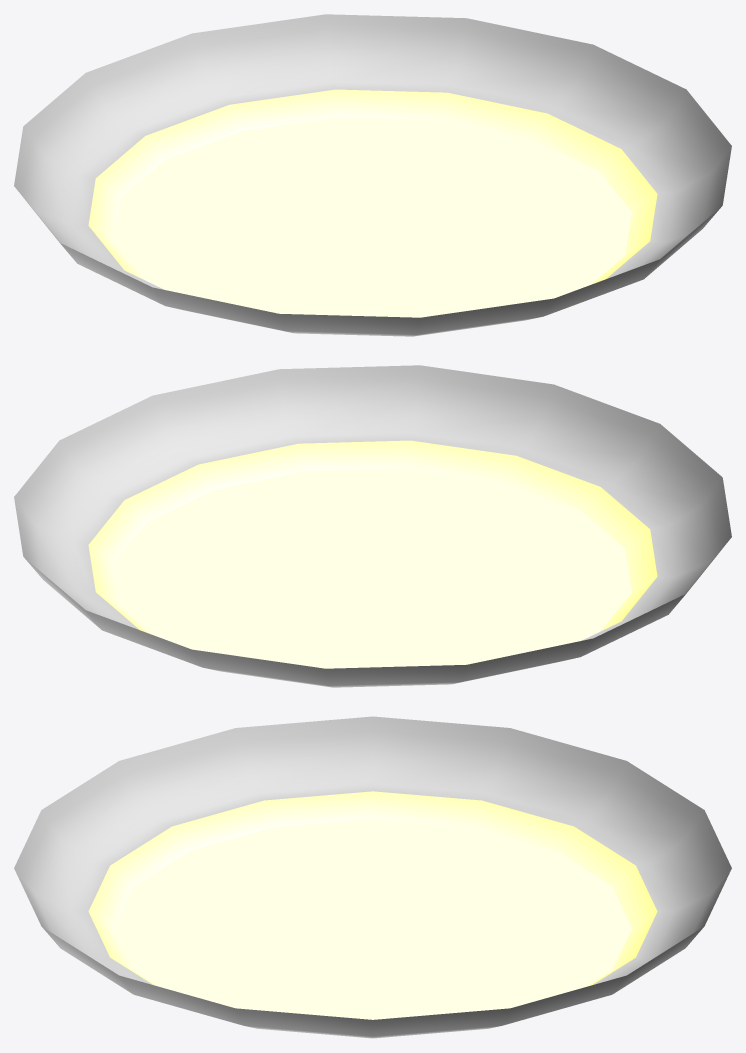
Rendered from Ceillinglamp.fbx.
3 views of the same model, one above another, from view 1: azimuth 30°, elevation 25°; view 2: azimuth 150°, elevation 25°; view 3: azimuth 270°, elevation 25° (orthographic).
Visible parts, largest first — view 1: Ceiling lamp; view 2: Ceiling lamp; view 3: Ceiling lamp.
Part boxes in pixels (x1,y1,x2,y2): Ceiling lamp: (14,14,731,336); Ceiling lamp: (14,365,731,687); Ceiling lamp: (14,716,731,1038).
Size of the model in its own units: 1.16 by 0.1076 by 1.16.
1 material, 1 textured.
